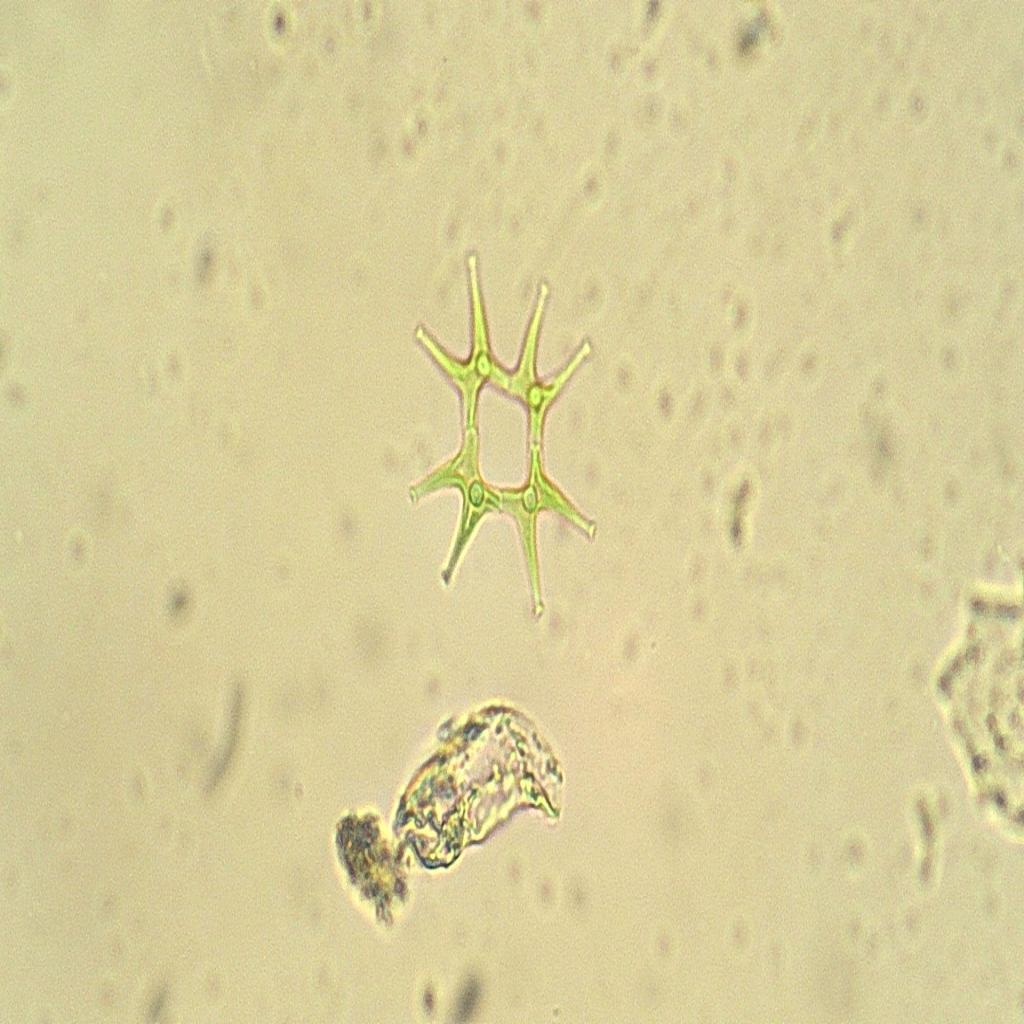Pediastrum_10: (388, 235, 610, 638)
